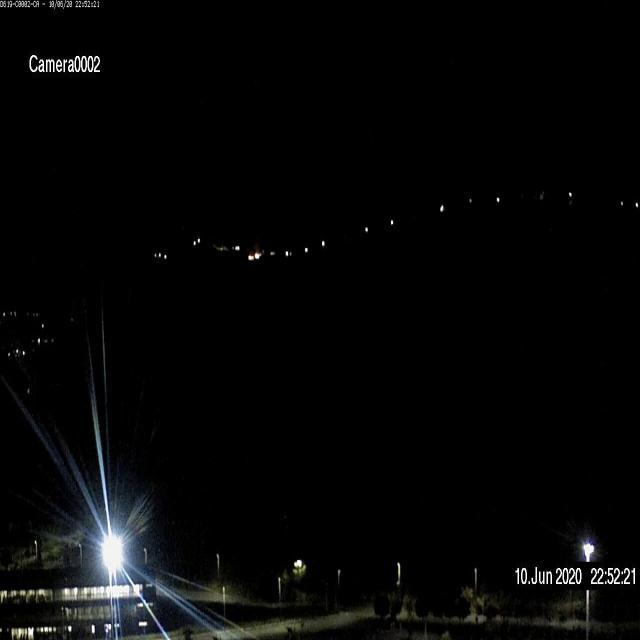Fire: (248, 248, 264, 260)
